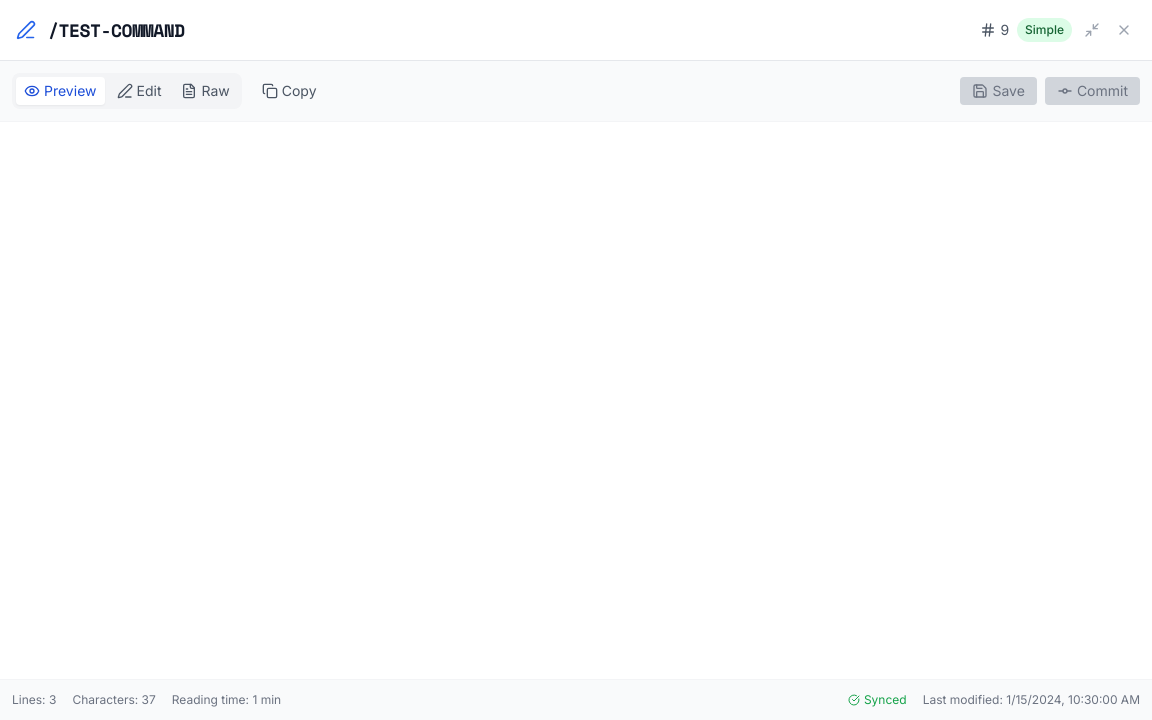
CommandEditor Component › Fullscreen Toggle › should toggle fullscreen when button is clicked
Click the button titled "Exit fullscreen".
click(1092, 30)  # box 1080,18 -> 1104,42
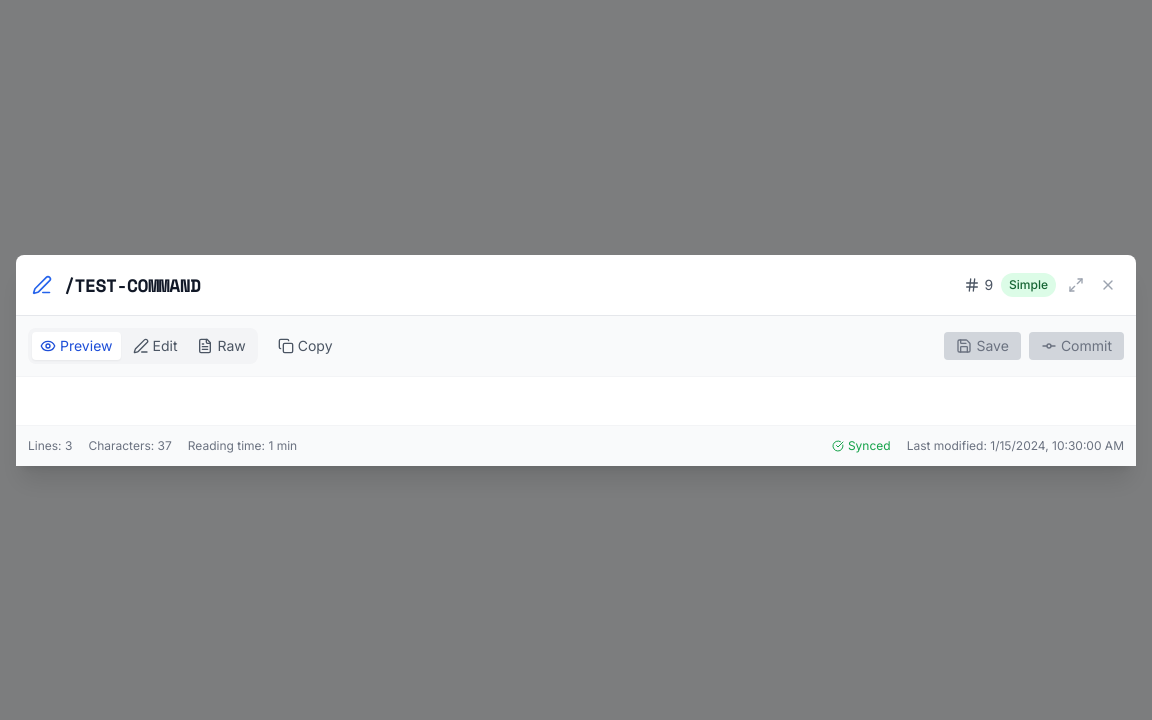
Expected: the button titled "Enter fullscreen" is shown, 1064,272 -> 1088,296
